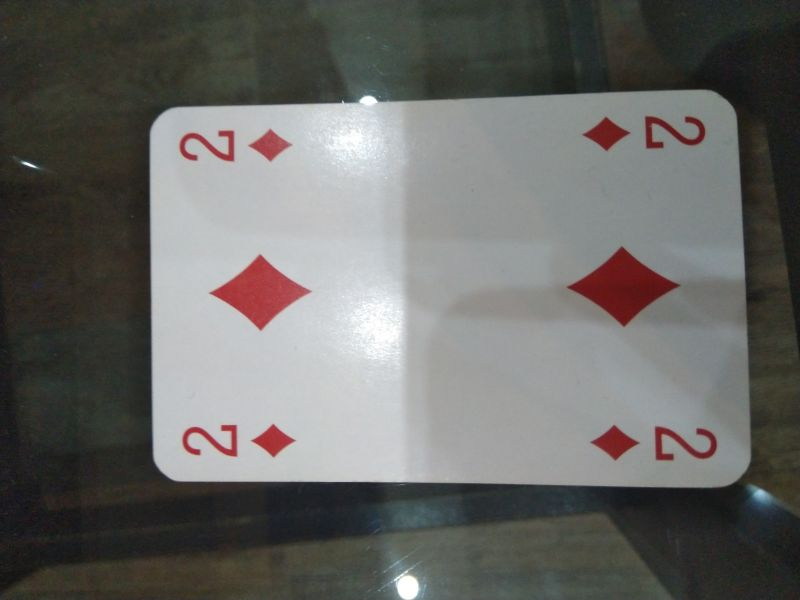2d: (587, 418, 724, 468), (577, 108, 713, 157), (175, 121, 297, 169), (177, 418, 303, 463)
